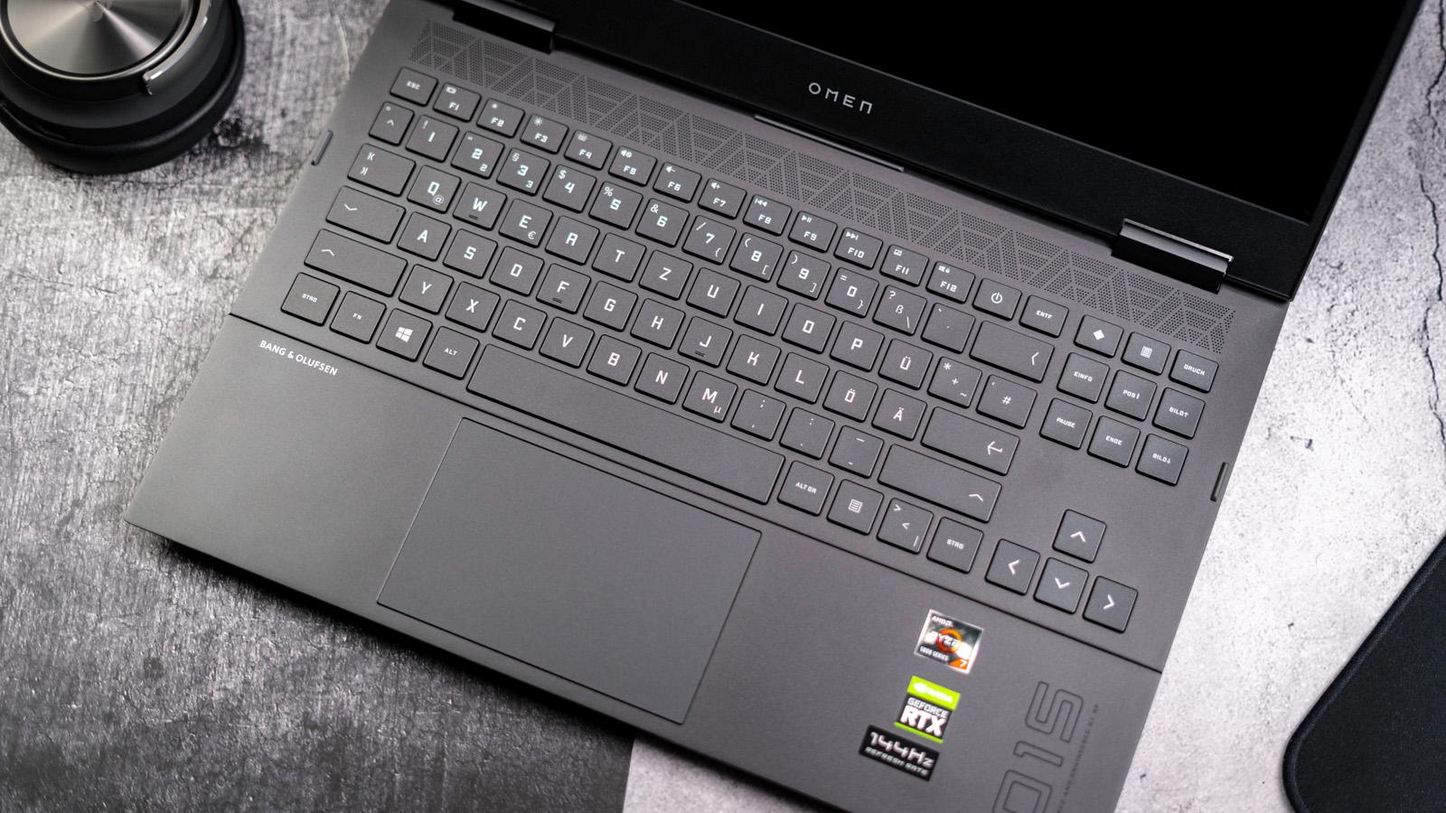0: (822, 264, 879, 313)
1: (402, 110, 459, 157)
2: (447, 127, 504, 174)
3: (493, 144, 550, 191)
4: (539, 160, 597, 208)
5: (586, 178, 643, 225)
6: (632, 195, 690, 243)
7: (679, 210, 737, 260)
8: (727, 229, 784, 277)
9: (774, 247, 831, 295)
a: (393, 208, 452, 257)
accent: (918, 299, 978, 349)
ae: (869, 384, 929, 436)
alt-left: (419, 322, 481, 377)
altgr-right: (775, 456, 836, 512)
b: (582, 331, 643, 382)
c: (489, 295, 549, 347)
caret: (369, 98, 414, 145)
comma: (728, 385, 789, 437)
d: (486, 242, 545, 293)
del: (968, 316, 1056, 378)
e: (496, 193, 554, 242)
enter: (920, 403, 1021, 472)
f: (534, 259, 591, 309)
g: (579, 277, 638, 327)
h: (627, 294, 687, 346)
hash: (974, 369, 1037, 425)
i: (730, 280, 792, 331)
j: (675, 312, 735, 364)
k: (722, 331, 783, 382)
keyboard: (253, 53, 1254, 677)
l: (771, 348, 831, 400)
m: (678, 366, 739, 418)
minus: (825, 421, 886, 472)
n: (631, 349, 692, 400)
o: (778, 298, 839, 349)
oe: (820, 366, 879, 418)
p: (826, 316, 887, 367)
plus: (925, 351, 984, 401)
point: (776, 403, 837, 454)
q: (404, 161, 462, 208)
r: (543, 211, 601, 260)
s: (439, 225, 497, 275)
shift-left: (303, 224, 408, 294)
shift-lock: (324, 181, 406, 242)
shift-right: (876, 441, 1001, 519)
space: (464, 341, 784, 503)
ss: (869, 282, 929, 330)
strg-left: (279, 269, 341, 323)
strg-right: (925, 515, 984, 573)
t: (588, 229, 649, 277)
tab: (346, 140, 417, 193)
u: (683, 262, 743, 313)
ue: (876, 333, 935, 385)
v: (535, 313, 596, 364)
w: (449, 176, 508, 225)
x: (442, 277, 501, 329)
y: (395, 260, 455, 311)
z: (635, 246, 695, 295)
